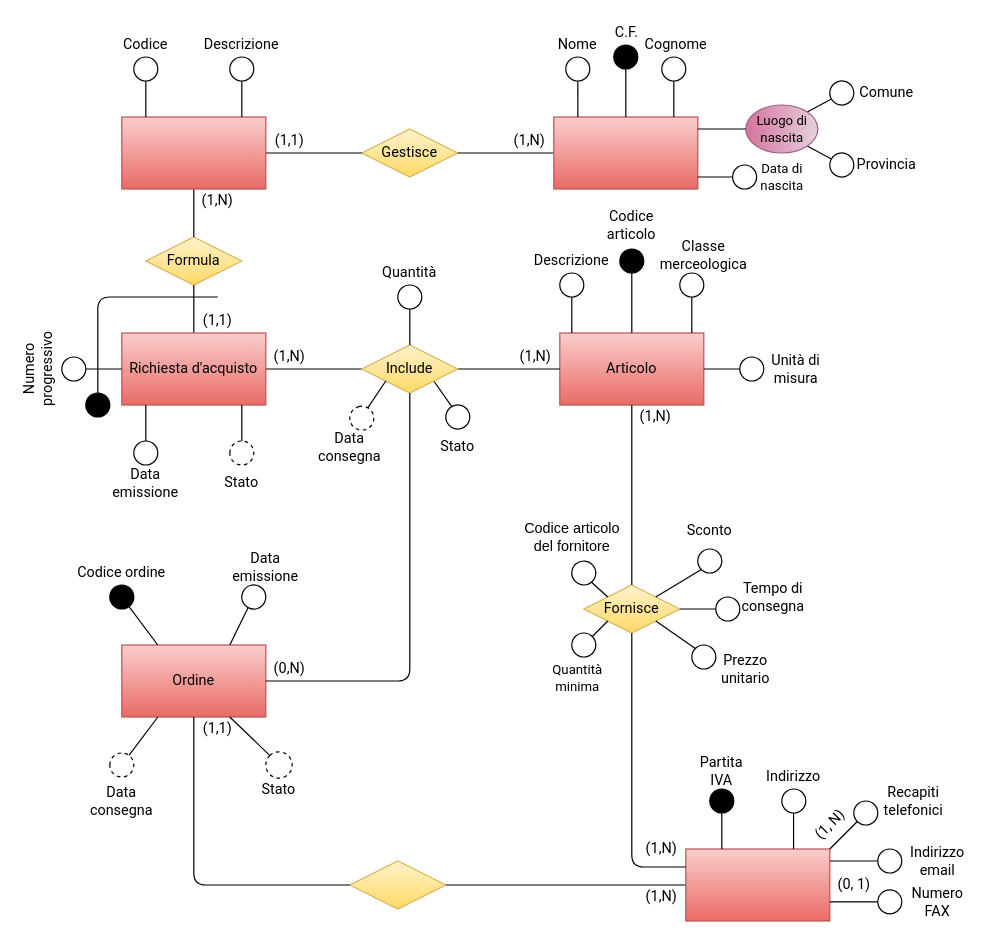
Some shapes in this 985 by 942 pixel diagram are drawn without their labels. The shapes that lost their labels are listed below. From the top down, each one's centre as x and y in pixels, then its label:
At pixel 193 152: "Dipartimento".
At pixel 625 152: "Responsabile".
At pixel 397 884: "Evade".
At pixel 757 884: "Fornitore".
